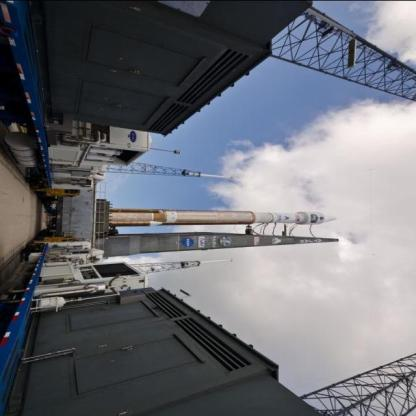MIL_TBM: (108, 209, 342, 226), (108, 209, 258, 226)
